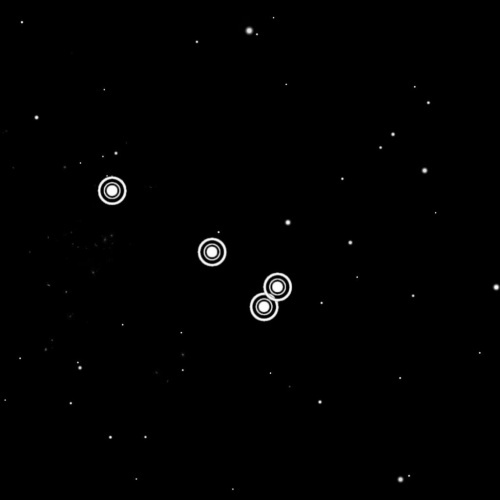sagitta: (88, 170, 299, 327)
